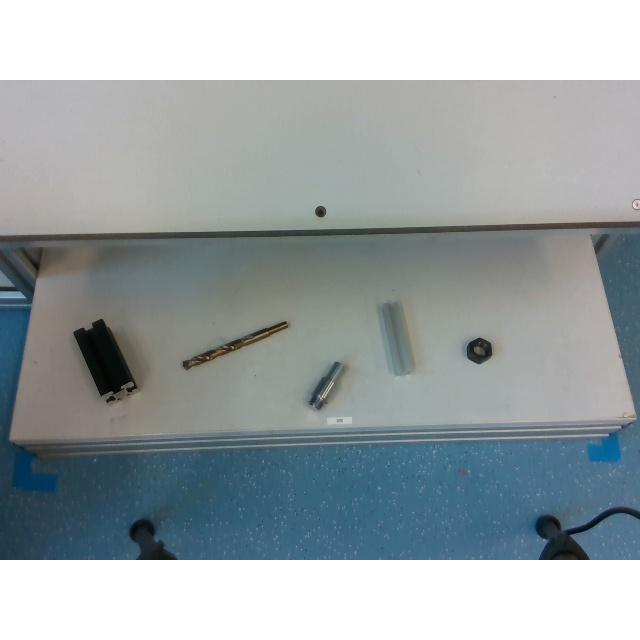Axis2: (308, 362, 346, 411)
Drill: (182, 320, 290, 368)
M20: (466, 337, 492, 363)
S40_40_B: (72, 319, 136, 401)
S40_40_G: (380, 299, 416, 373)
